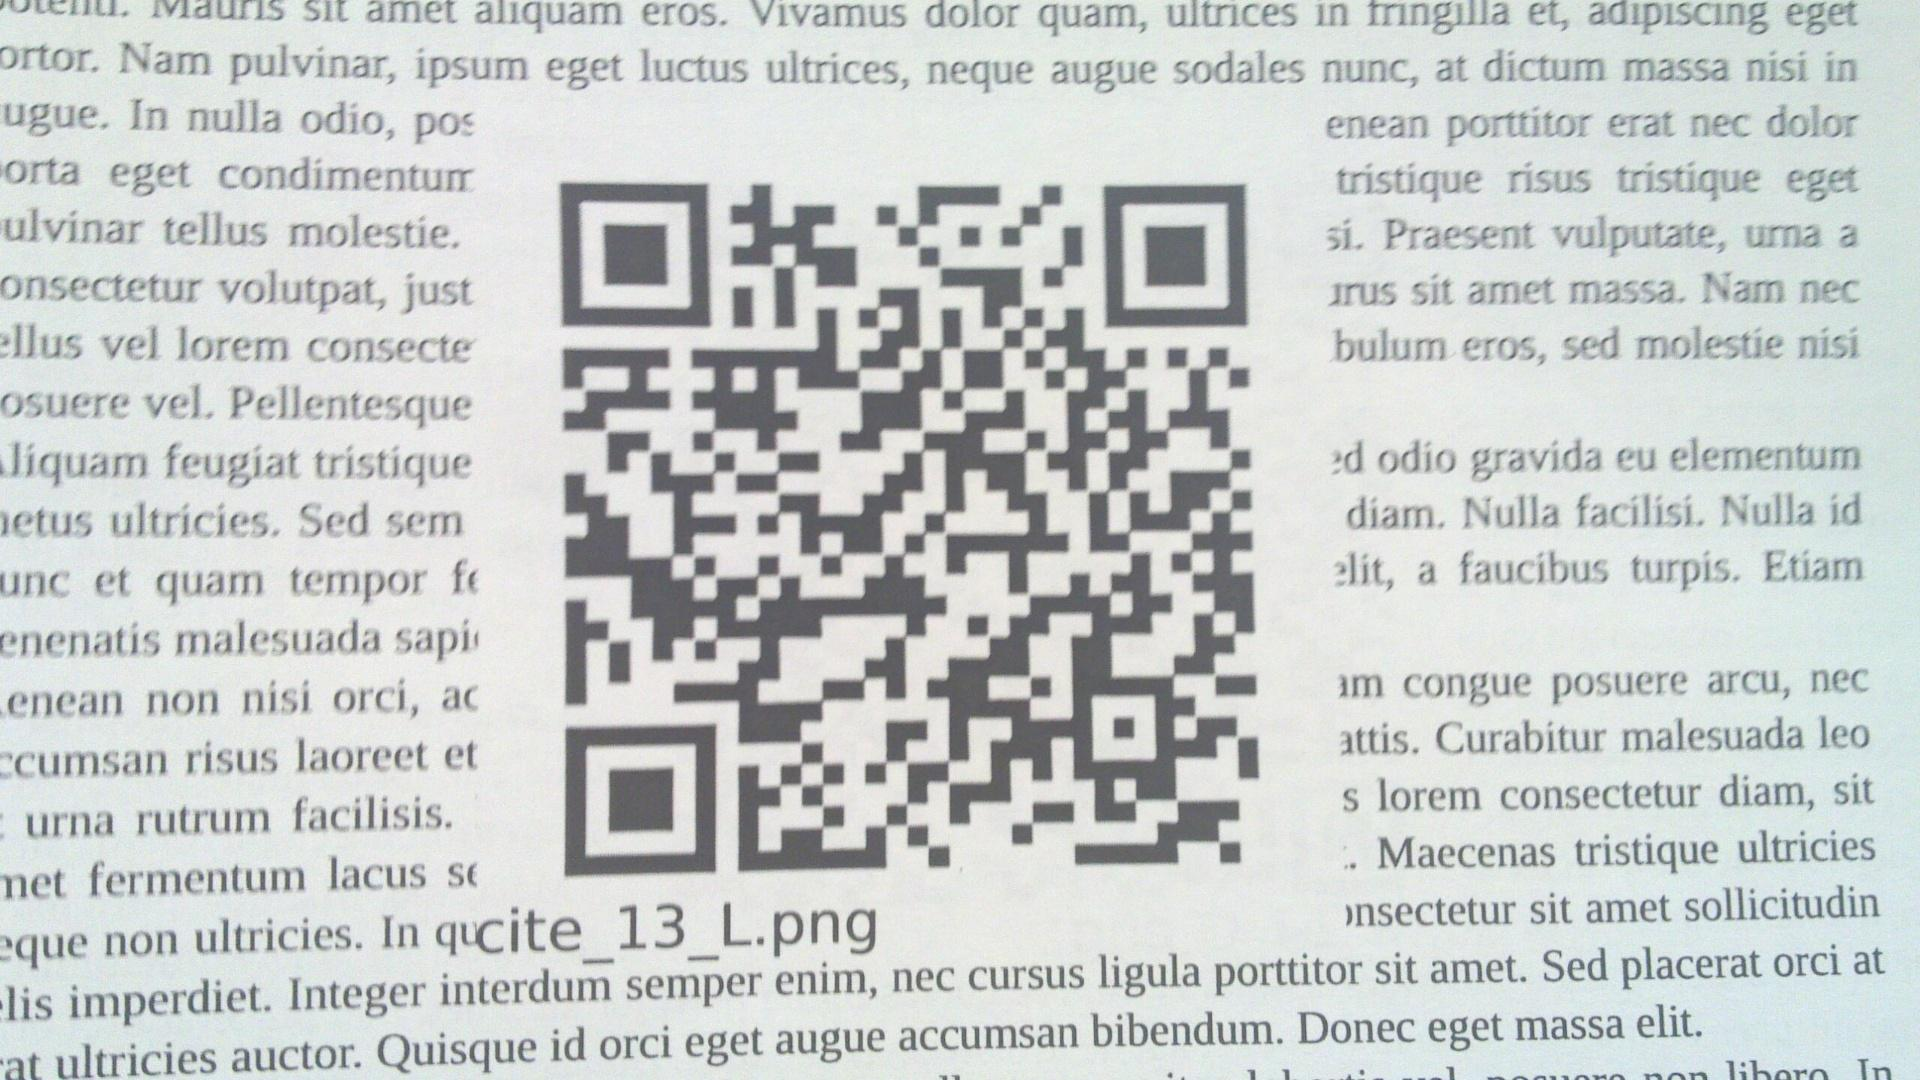Finder pattern: (559, 723, 719, 880), (553, 175, 716, 328), (1098, 178, 1254, 334)
